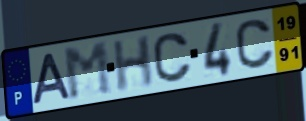4: (201, 20, 235, 79)
A: (30, 51, 73, 107)
C: (151, 32, 194, 86), (233, 18, 276, 72)
H: (111, 33, 155, 95)
M: (61, 40, 115, 104)
